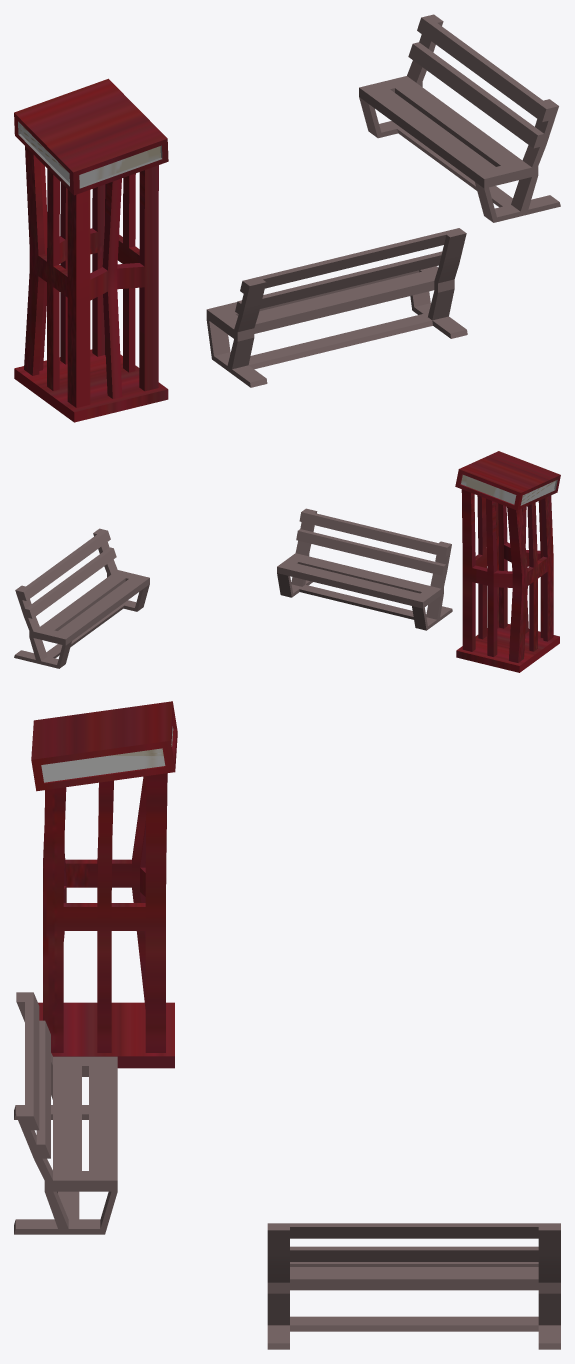
File: parque.obj
3 renders of one model, top to bottom at view 1: azimuth 30°, elevation 25°; view 2: azimuth 150°, elevation 25°; view 3: azimuth 270°, elevation 25°, orthographic. The views are drawn at different scales.
Visible parts, largest first — view 1: ciudad_pCylinder32polySurface26, ciudad_pCylinder32polySurface29, ciudad_pCylinder32polySurface28; view 2: ciudad_pCylinder32polySurface26, ciudad_pCylinder32polySurface29, ciudad_pCylinder32polySurface28; view 3: ciudad_pCylinder32polySurface26, ciudad_pCylinder32polySurface28, ciudad_pCylinder32polySurface29.
Part boxes in pixels (x1,y1,x2,y2): ciudad_pCylinder32polySurface26: (14, 78, 168, 422); ciudad_pCylinder32polySurface29: (206, 228, 467, 387); ciudad_pCylinder32polySurface28: (359, 14, 560, 222); ciudad_pCylinder32polySurface26: (455, 451, 560, 672); ciudad_pCylinder32polySurface29: (277, 508, 452, 630); ciudad_pCylinder32polySurface28: (14, 528, 149, 668); ciudad_pCylinder32polySurface26: (31, 701, 177, 1068); ciudad_pCylinder32polySurface28: (267, 1223, 560, 1349); ciudad_pCylinder32polySurface29: (14, 992, 117, 1234).
Bounding box in the file's own units: 18.9 × 8.57 × 13.01.
4 materials, 3 textured.
